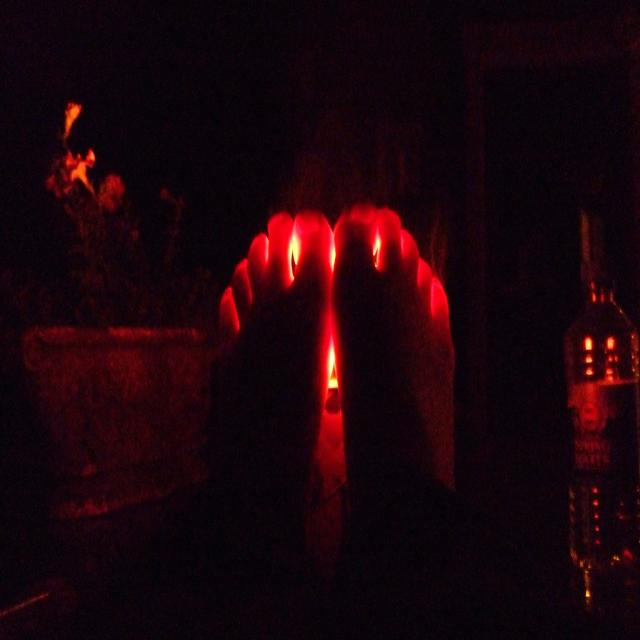Bottle: (532, 132, 640, 588)
People: (164, 193, 456, 581)
